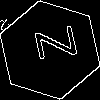Z: (24, 25, 78, 64)
